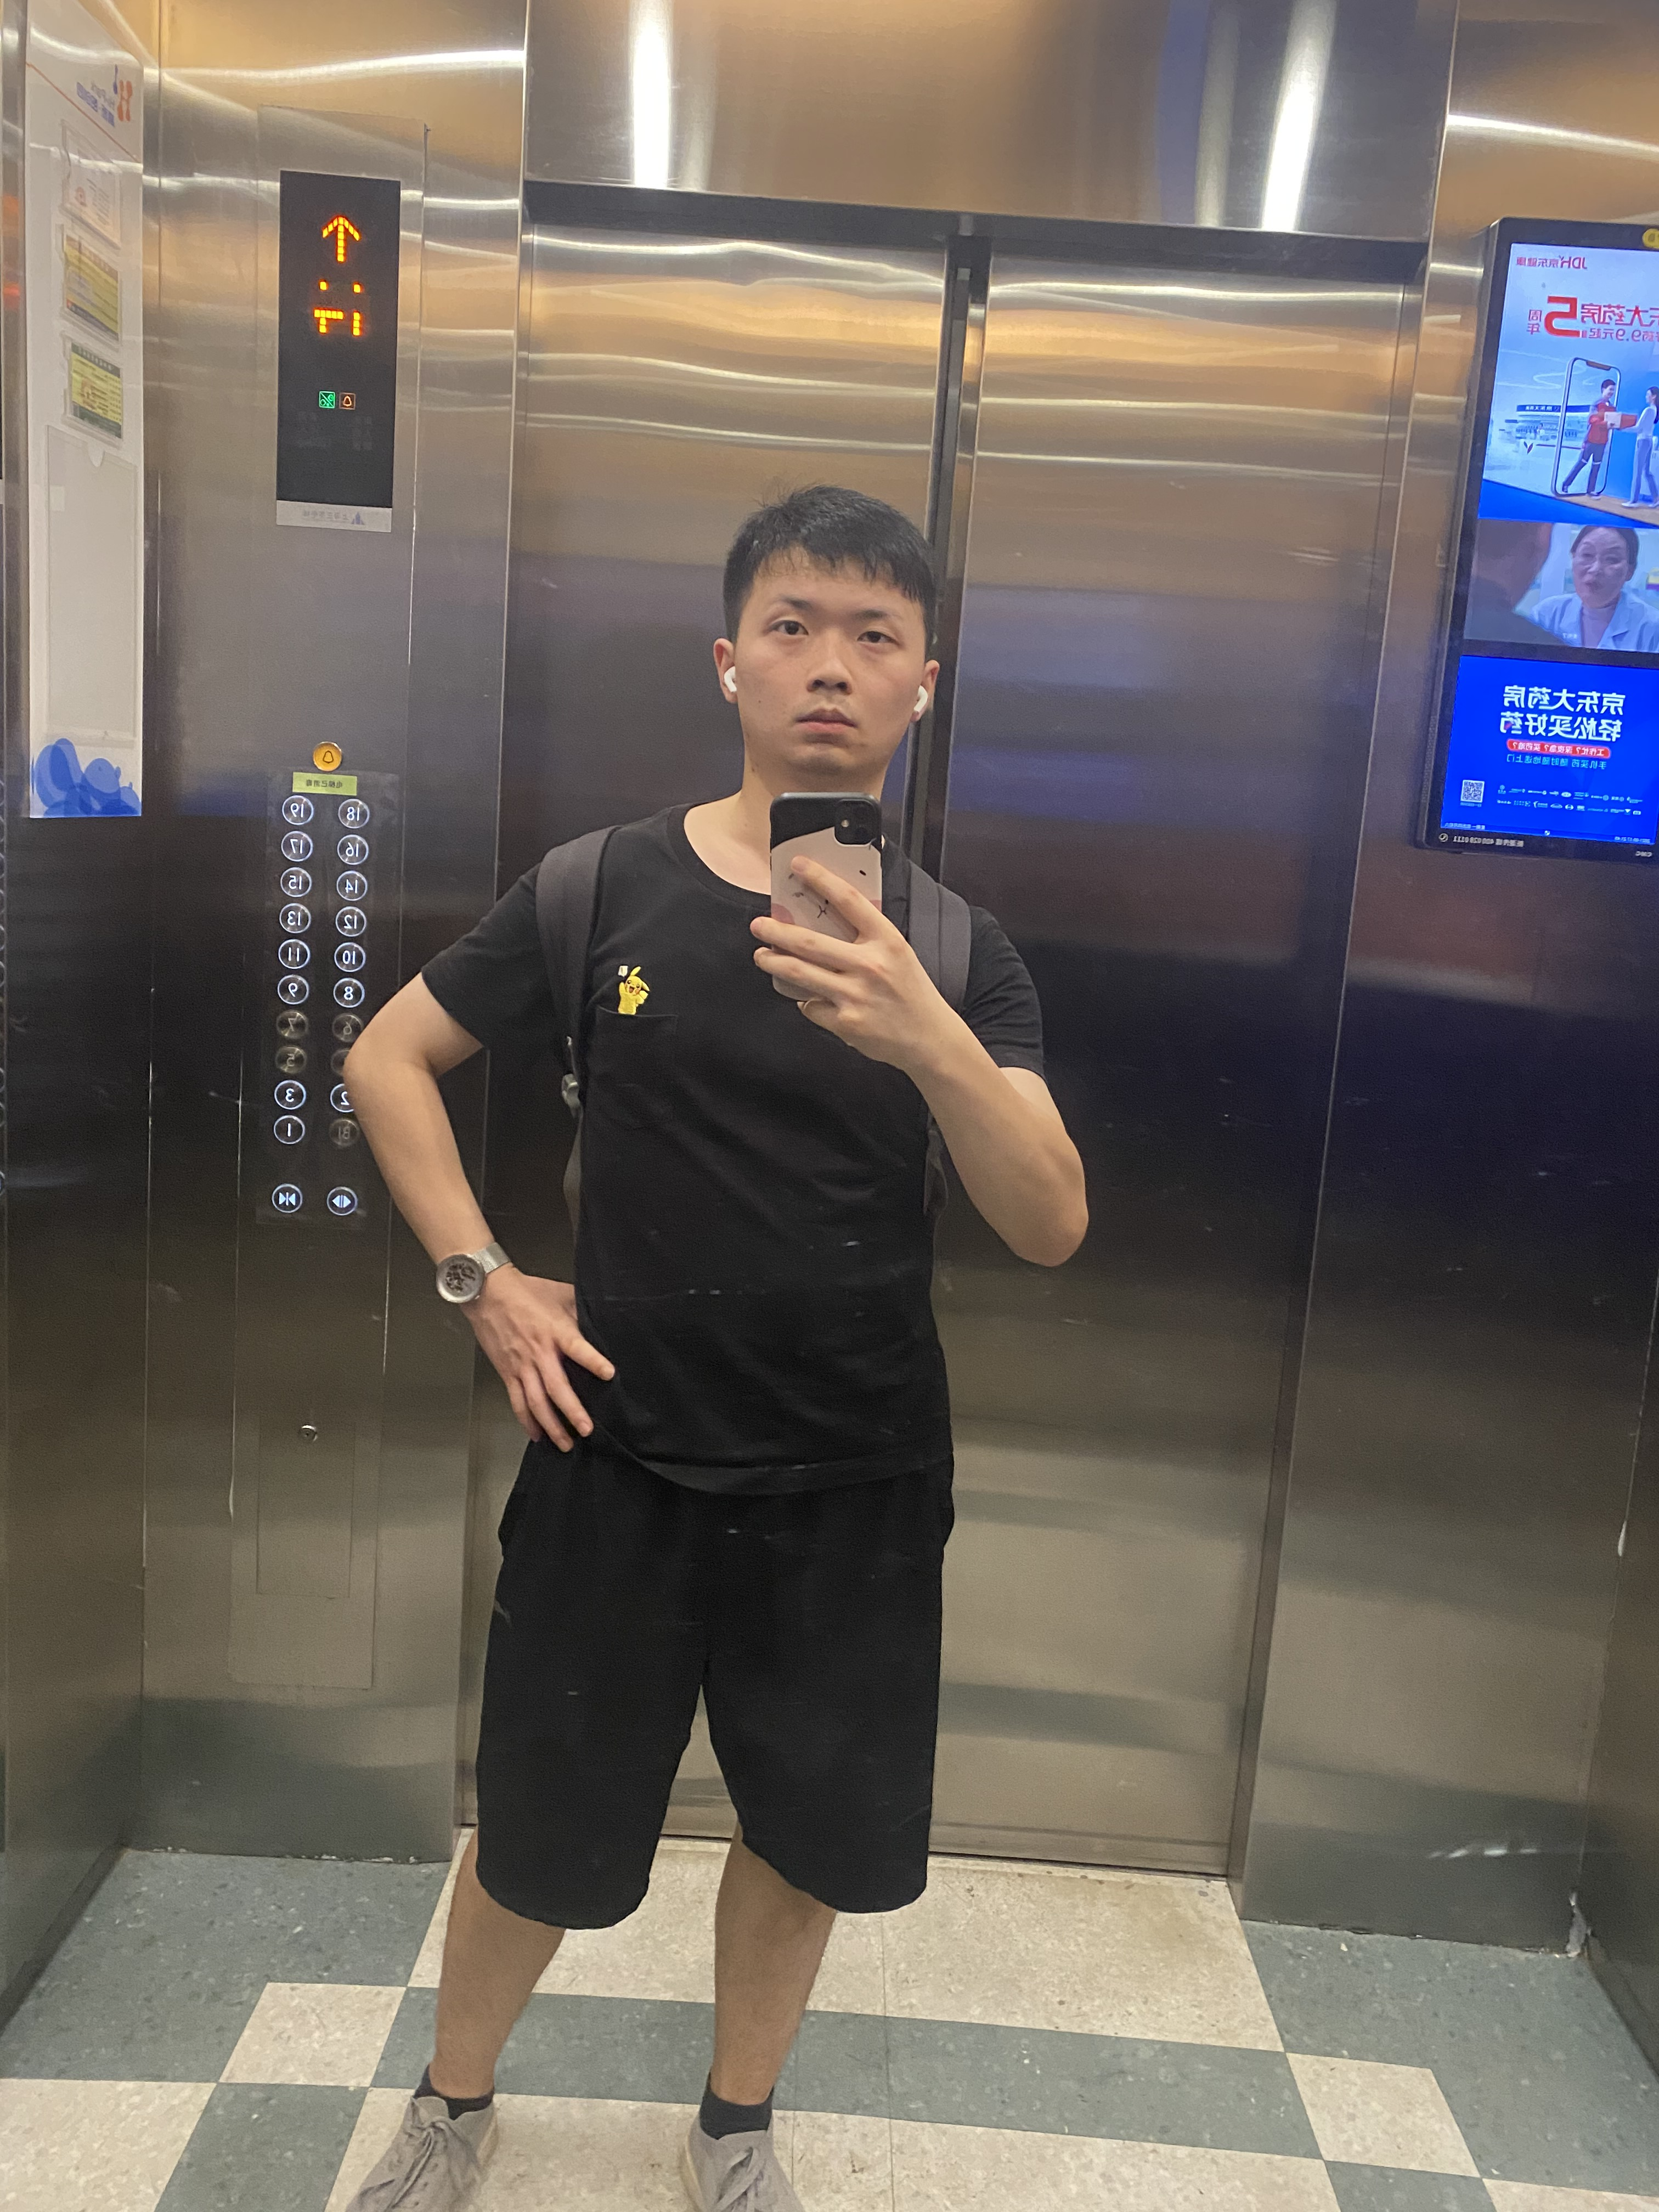body: (308, 482, 1135, 2212)
head: (679, 482, 963, 811)
l_foot: (662, 2063, 830, 2212)
l_hand: (723, 849, 988, 1092)
neck: (686, 725, 946, 949)
r_foot: (353, 2056, 528, 2212)
r_hand: (394, 1192, 672, 1476)
waist: (586, 1298, 905, 1647)
